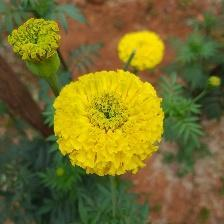marigold: (54, 70, 167, 175)
